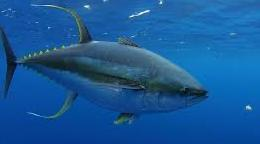Scombridae -Tunas-: (0, 1, 208, 129)
